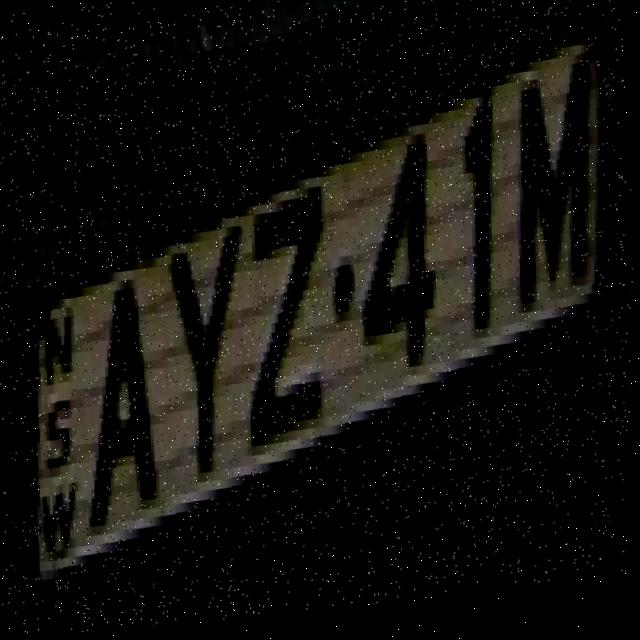LicensePlate: (0, 5, 639, 612)
